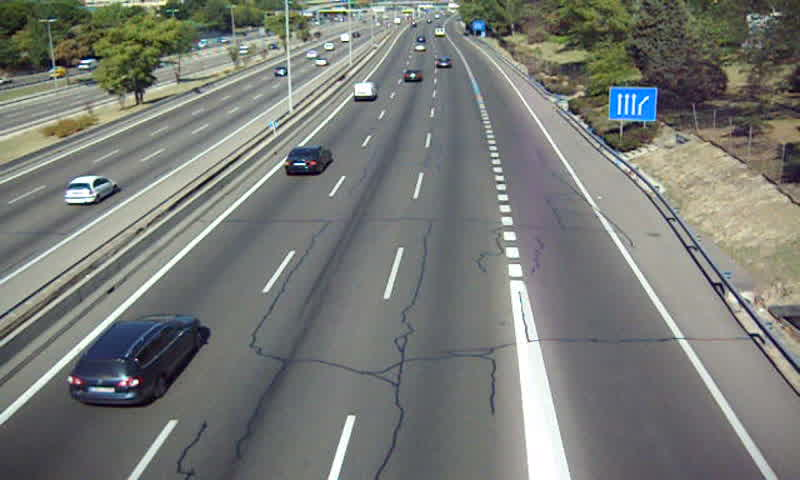car: (69, 315, 200, 407), (285, 147, 330, 175), (403, 68, 422, 84), (432, 57, 453, 70)
van: (353, 82, 376, 101)
